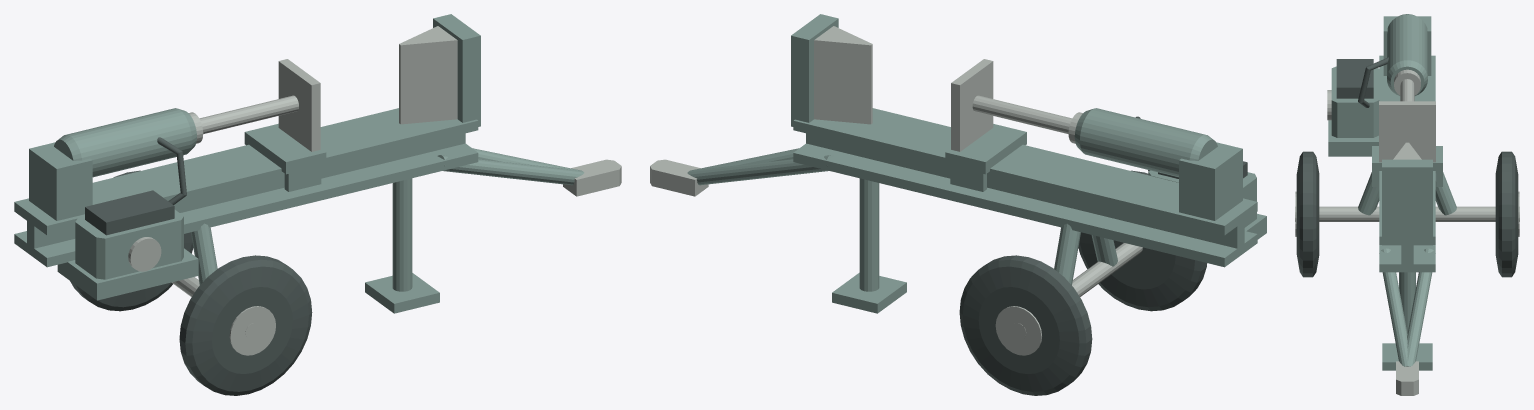
3 renders of one model, left to right at view 1: azimuth 30°, elevation 25°; view 2: azimuth 150°, elevation 25°; view 3: azimuth 270°, elevation 25°, orthographic. The views are drawn at different scales.
Parts seen in each view (by area): view 1: WholeLongISectionBed, WholeGroundedTyre-1, WholeLongHorizontalCylinder, WholeFixedBluntWedge, WholeOutboardMotorCase, WholeRearCylinderRoot, WholeCapturedPushCarriage, WholeUprightBluntPushPlate, WholeOutboardMotorBearer, WholeWedgeBackAnchor, WholeRaisedMotorTopCover, WholeFrontParkingLeg (+11 smaller); view 2: WholeLongISectionBed, WholeGroundedTyre1, WholeLongHorizontalCylinder, WholeFixedBluntWedge, WholeGroundedTyre-1, WholeRearCylinderRoot, WholeCapturedPushCarriage, WholeUprightBluntPushPlate, WholeWedgeBackAnchor, WholeFrontParkingLeg, WholeForwardDrawMember1, WholeFiniteParkingShoe (+8 smaller); view 3: WholeWedgeBackAnchor, WholeUprightBluntPushPlate, WholeLongISectionBed, WholeGroundedTyre-1, WholeGroundedTyre1, WholeLongHorizontalCylinder, WholeOutboardMotorCase, WholeTransverseChassisAxle, WholeRaisedMotorTopCover, WholeForwardDrawMember-1, WholeForwardDrawMember1, WholeOutboardMotorBearer (+11 smaller).
Boxes of the visible parts, x1,y1,x2,y2 form: WholeLongISectionBed: [14, 108, 478, 267]; WholeGroundedTyre-1: [179, 255, 312, 395]; WholeLongHorizontalCylinder: [54, 108, 196, 177]; WholeFixedBluntWedge: [399, 26, 457, 124]; WholeOutboardMotorCase: [75, 209, 183, 279]; WholeRearCylinderRoot: [29, 142, 92, 220]; WholeCapturedPushCarriage: [244, 123, 326, 191]; WholeUprightBluntPushPlate: [278, 59, 320, 151]; WholeOutboardMotorBearer: [57, 248, 198, 300]; WholeWedgeBackAnchor: [433, 14, 480, 126]; WholeRaisedMotorTopCover: [85, 190, 174, 235]; WholeFrontParkingLeg: [392, 178, 412, 291]; WholeLongISectionBed: [793, 108, 1257, 267]; WholeGroundedTyre1: [959, 255, 1092, 395]; WholeLongHorizontalCylinder: [1074, 108, 1217, 177]; WholeFixedBluntWedge: [814, 26, 872, 124]; WholeGroundedTyre-1: [1078, 170, 1206, 311]; WholeRearCylinderRoot: [1179, 142, 1242, 220]; WholeCapturedPushCarriage: [945, 124, 1026, 191]; WholeUprightBluntPushPlate: [951, 59, 993, 151]; WholeWedgeBackAnchor: [791, 14, 838, 126]; WholeFrontParkingLeg: [859, 178, 879, 291]; WholeForwardDrawMember1: [687, 155, 833, 185]; WholeFiniteParkingShoe: [832, 272, 906, 313]; WholeWedgeBackAnchor: [1382, 159, 1432, 245]; WholeUprightBluntPushPlate: [1379, 101, 1435, 162]; WholeLongISectionBed: [1379, 55, 1435, 272]; WholeGroundedTyre-1: [1296, 151, 1319, 277]; WholeGroundedTyre1: [1495, 151, 1518, 277]; WholeLongHorizontalCylinder: [1387, 14, 1427, 95]; WholeOutboardMotorCase: [1331, 66, 1379, 137]; WholeTransverseChassisAxle: [1295, 206, 1519, 221]; WholeRaisedMotorTopCover: [1336, 59, 1373, 98]; WholeForwardDrawMember-1: [1381, 248, 1408, 366]; WholeForwardDrawMember1: [1406, 248, 1433, 366]; WholeOutboardMotorBearer: [1328, 120, 1378, 156].
Size of the model in its own units: 2.32 by 0.968 by 0.894.
